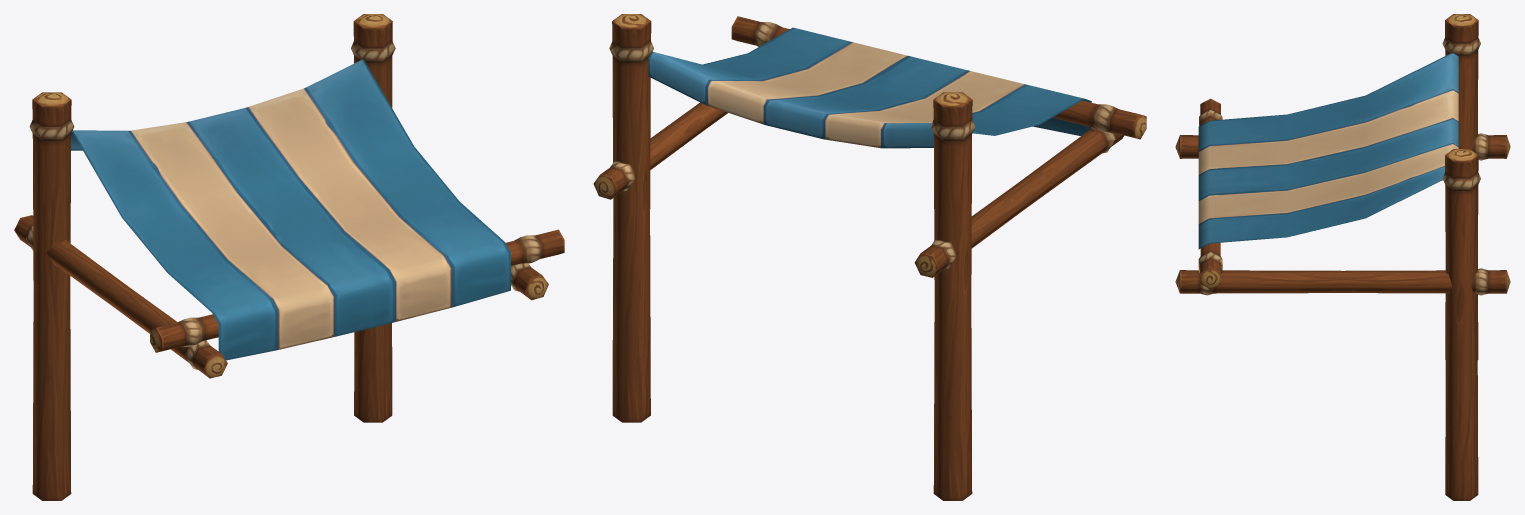
Rendered from Market_tent_blue.fbx.
3 renders of one model, left to right at view 1: azimuth 30°, elevation 25°; view 2: azimuth 150°, elevation 25°; view 3: azimuth 270°, elevation 25°, orthographic. The views are drawn at different scales.
Parts seen in each view (by area): view 1: Market_tent_blue; view 2: Market_tent_blue; view 3: Market_tent_blue.
Part boxes in pixels (box(x1,y1,x2,y2)): Market_tent_blue: box(14, 14, 564, 500); Market_tent_blue: box(593, 14, 1146, 500); Market_tent_blue: box(1175, 14, 1510, 500).
Bounding box in the file's own units: 3.58 × 3.31 × 2.92.
